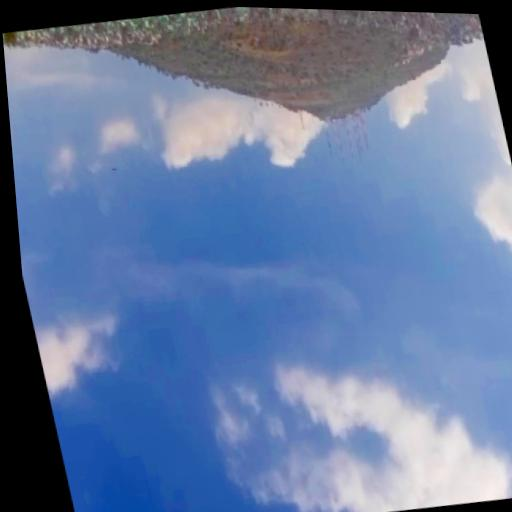drones: (109, 163, 121, 173)
